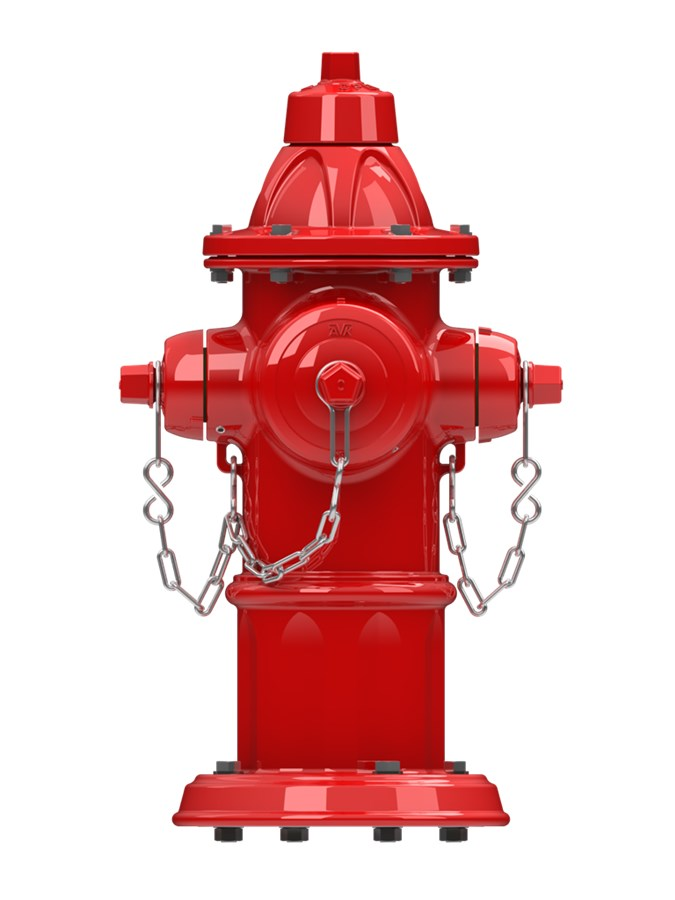FireHydrant: (60, 36, 584, 862)
